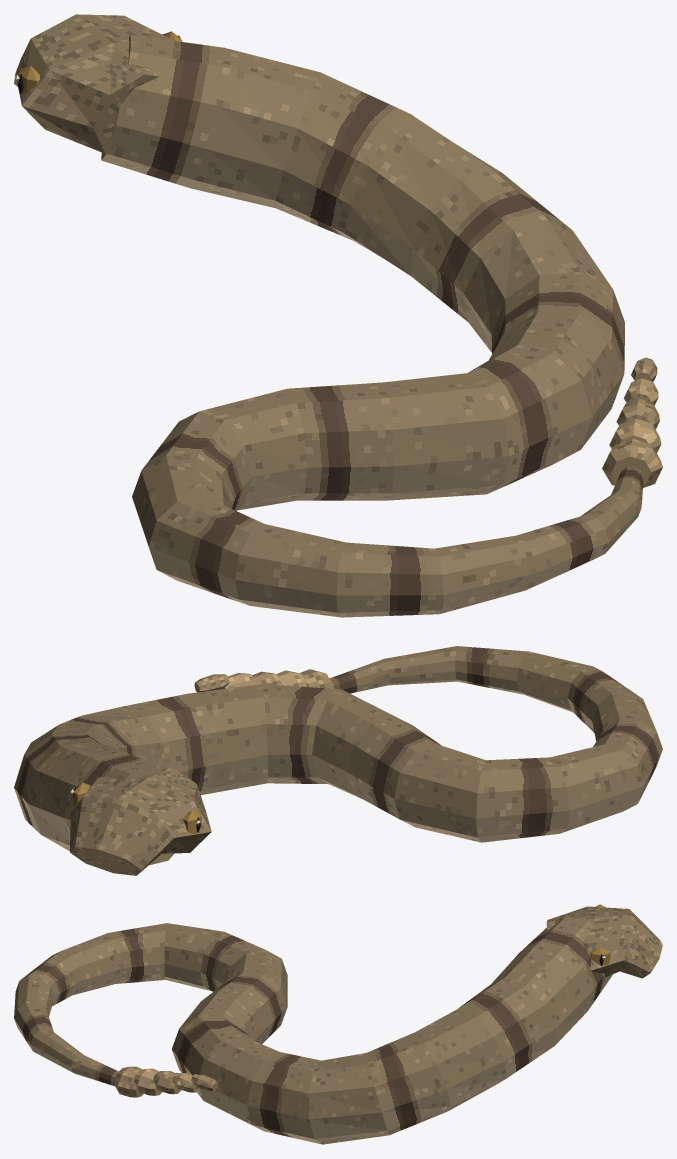
File: mon_rattlesnake_giant.glb
The picture shows the model from 3 angles, top to bottom: view 1: azimuth 30°, elevation 25°; view 2: azimuth 150°, elevation 25°; view 3: azimuth 270°, elevation 25°; orthographic projection. The views are drawn at different scales.
Parts seen in each view (by area): view 1: closed_body; view 2: closed_body; view 3: closed_body.
Boxes of the visible parts, x1=… form: closed_body: x1=14, y1=14, x2=662, y2=617; closed_body: x1=14, y1=646, x2=662, y2=875; closed_body: x1=14, y1=904, x2=662, y2=1144.
Size of the model in its own units: 1.43 by 0.5641 by 2.16.
1 material, 1 textured.
